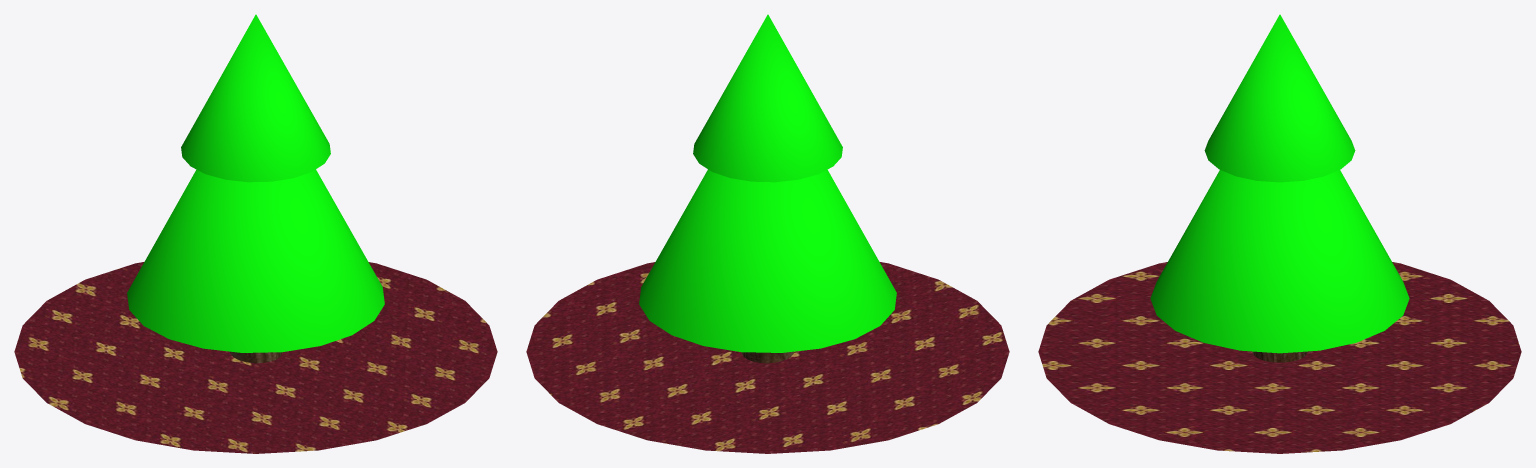
The model's file is Christmas Tree (2).gltf.
The picture shows the model from 3 angles, left to right: view 1: azimuth 30°, elevation 25°; view 2: azimuth 150°, elevation 25°; view 3: azimuth 270°, elevation 25°; orthographic projection.
Visible parts, largest first — view 1: pDisc1, pCone1, pCone2; view 2: pDisc1, pCone1, pCone2; view 3: pDisc1, pCone1, pCone2.
Boxes of the visible parts, bbox=[...] form: pDisc1: bbox=[14, 262, 497, 453]; pCone1: bbox=[127, 169, 384, 352]; pCone2: bbox=[181, 14, 330, 182]; pDisc1: bbox=[526, 262, 1009, 453]; pCone1: bbox=[639, 169, 896, 352]; pCone2: bbox=[693, 14, 842, 182]; pDisc1: bbox=[1038, 262, 1521, 453]; pCone1: bbox=[1150, 170, 1409, 353]; pCone2: bbox=[1204, 14, 1355, 182].
Bounding box in the file's own units: 2 × 1.54 × 2.
3 materials, 2 textured.
